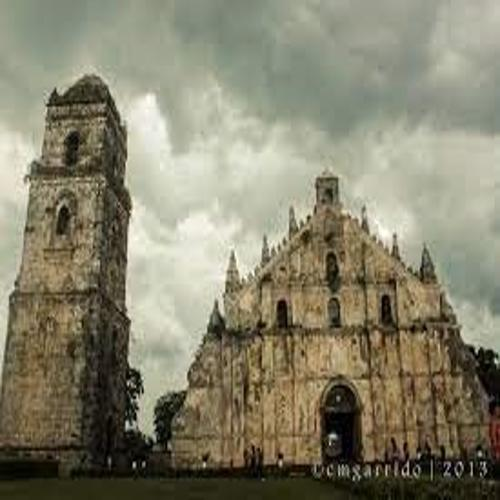Paoay Church: (3, 64, 491, 468)
